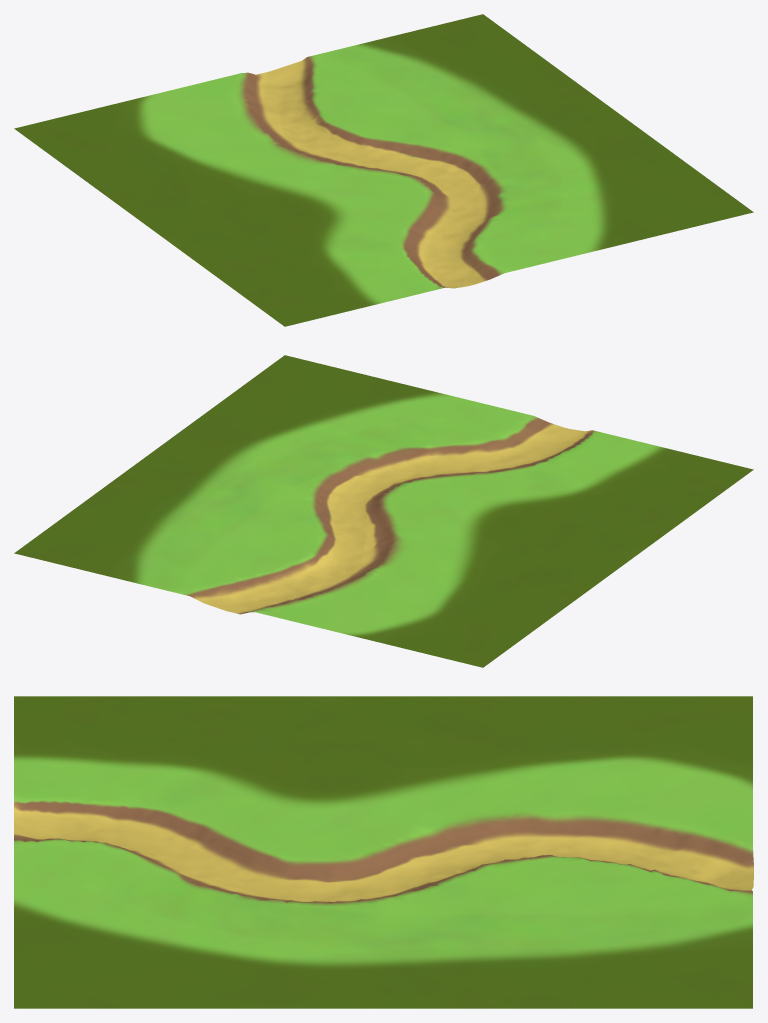
Rendered from ground_plains.glb.
3 views of the same model, one above another, from view 1: azimuth 30°, elevation 25°; view 2: azimuth 150°, elevation 25°; view 3: azimuth 270°, elevation 25° (orthographic). The views are drawn at different scales.
Parts seen in each view (by area): view 1: Plane; view 2: Plane; view 3: Plane.
Part boxes in pixels (x1,y1,x2,y2): Plane: (14, 14, 753, 326); Plane: (14, 355, 753, 667); Plane: (14, 696, 753, 1008).
Bounding box in the file's own units: 75 × 1.38 × 75.09.
Materials: 1 (1 with a texture image).
